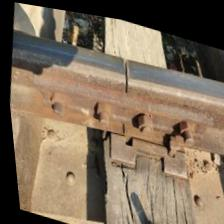person: (97, 40, 155, 102), (111, 115, 132, 135)
